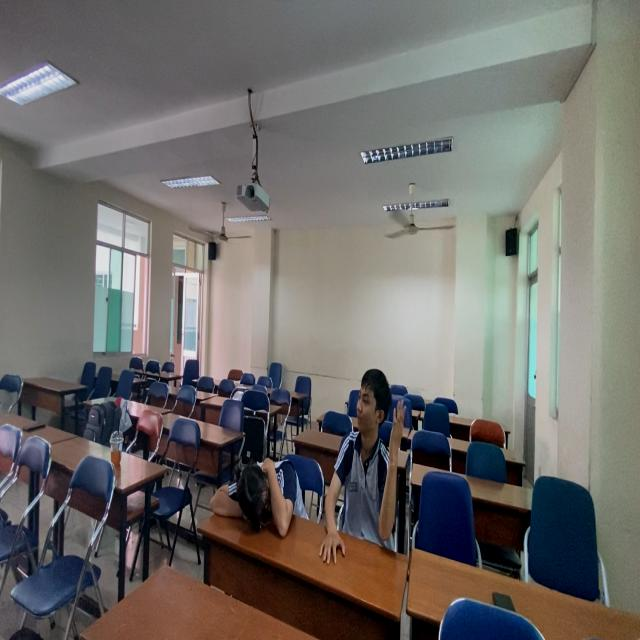raise_hand: (322, 368, 412, 576)
sleep: (226, 451, 310, 545)
